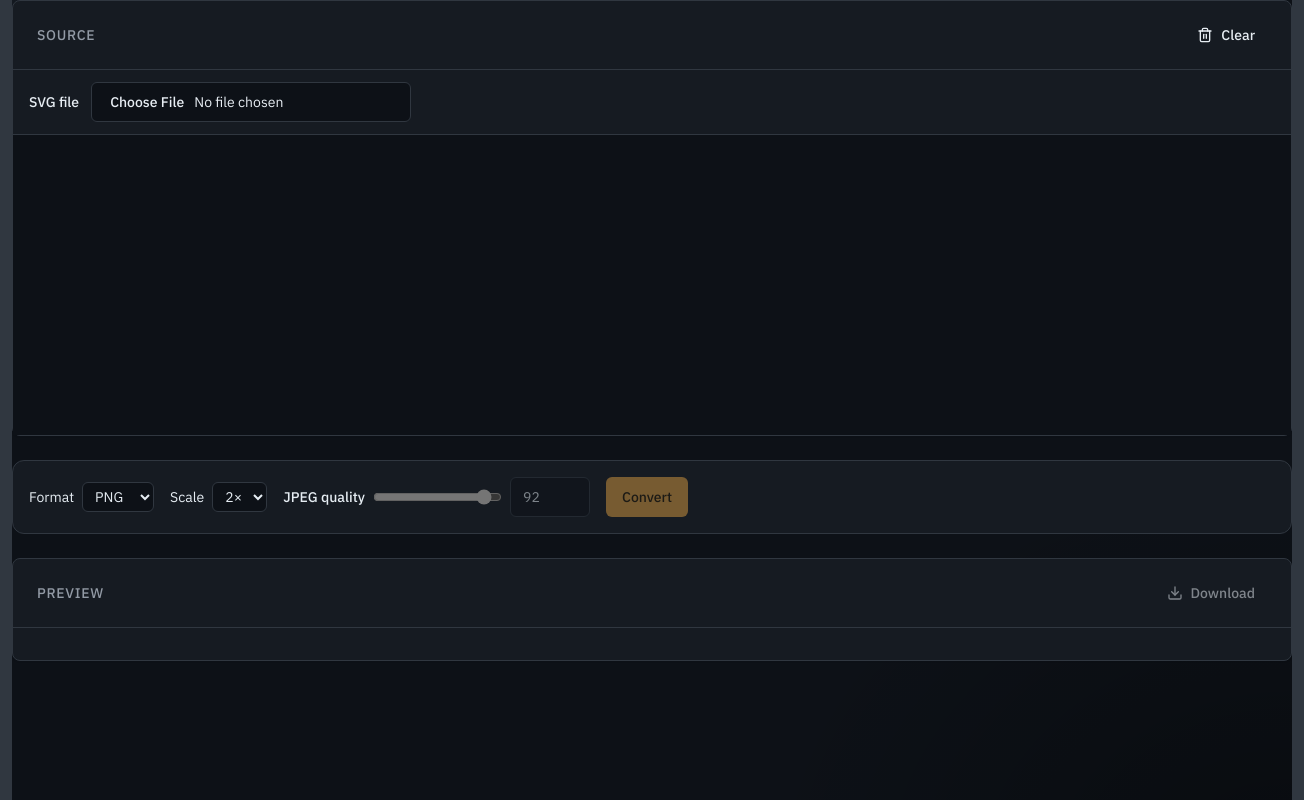
SvgToImageTool › shows Not an SVG document on the preview card after Convert
Step 1. Type "<html></html>" into the text box named "SVG source" → (652, 285), box x1=13 y1=135 x2=1291 y2=435
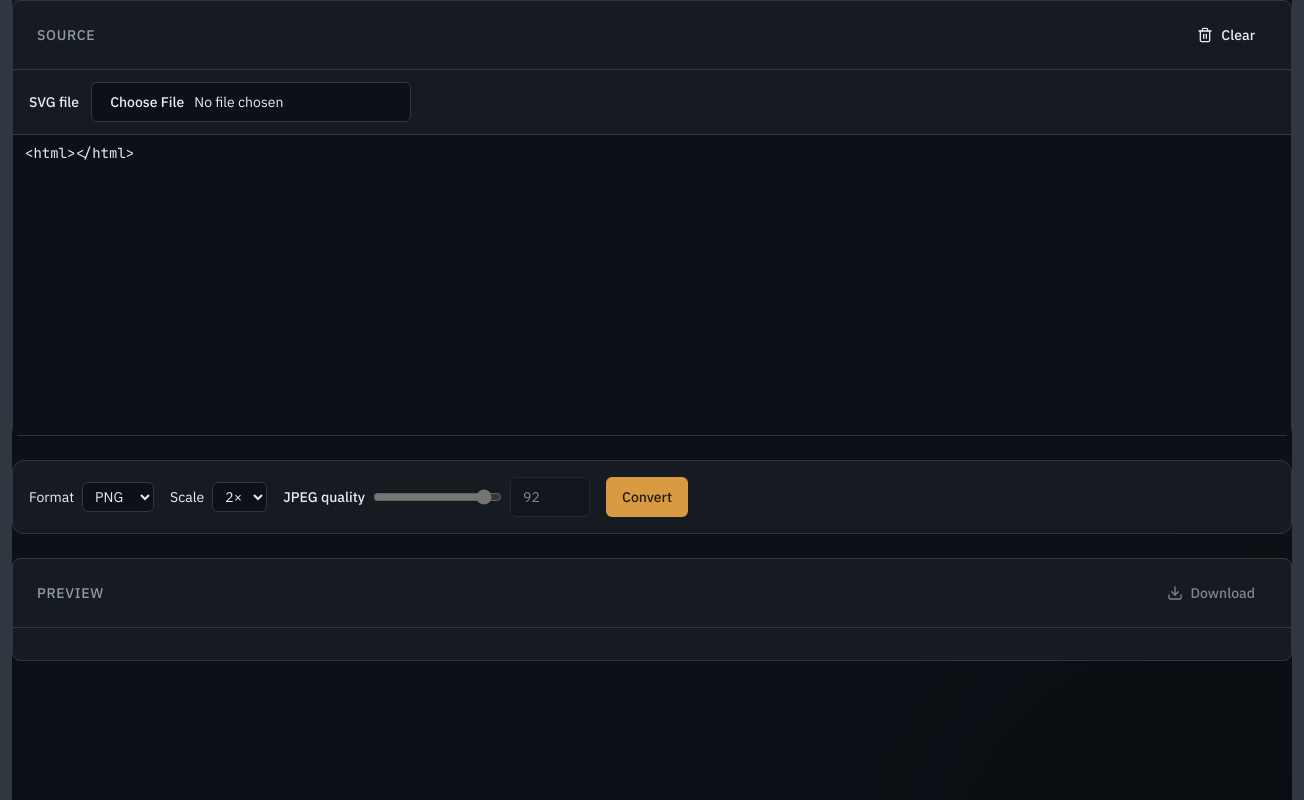
Step 2. Click the button "Convert" → (647, 497), box x1=606 y1=477 x2=688 y2=517
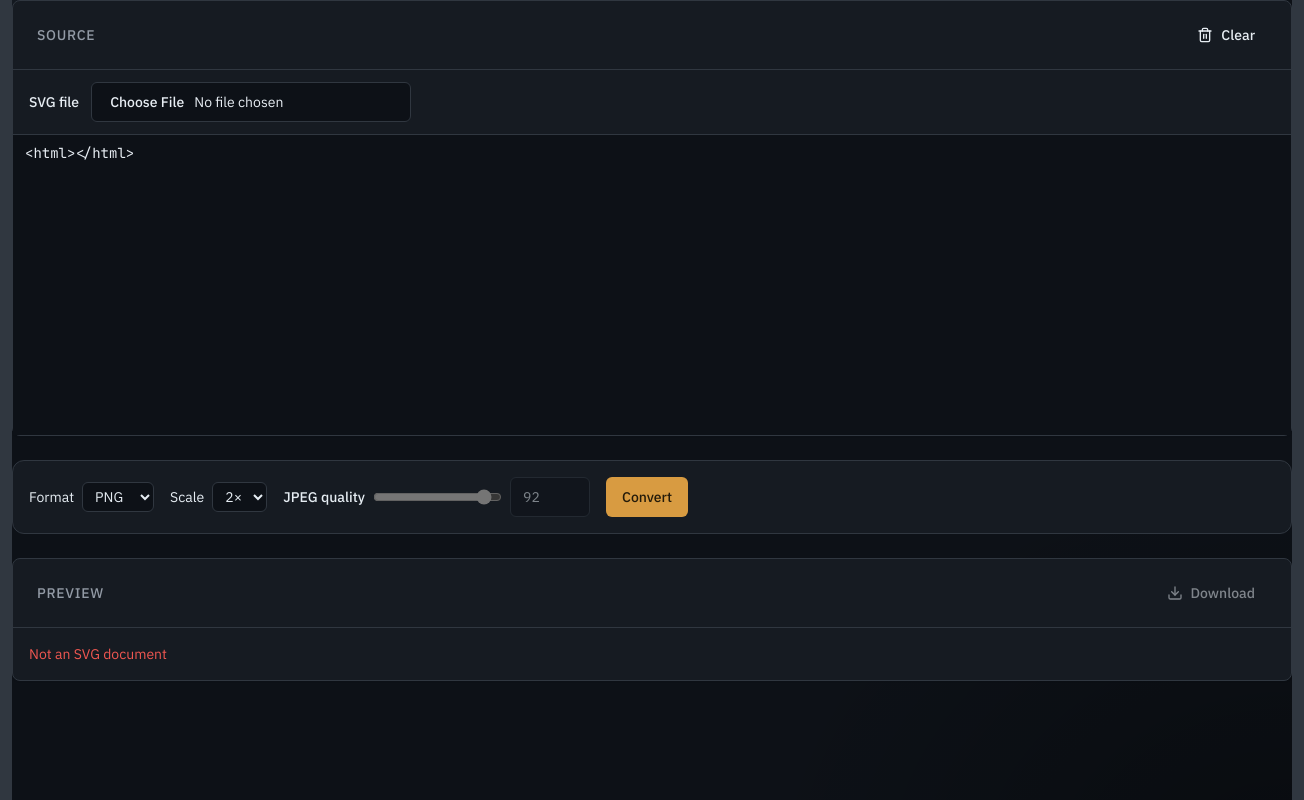
Expected: the message reads "Not an SVG document", x1=29 y1=645 x2=167 y2=663
